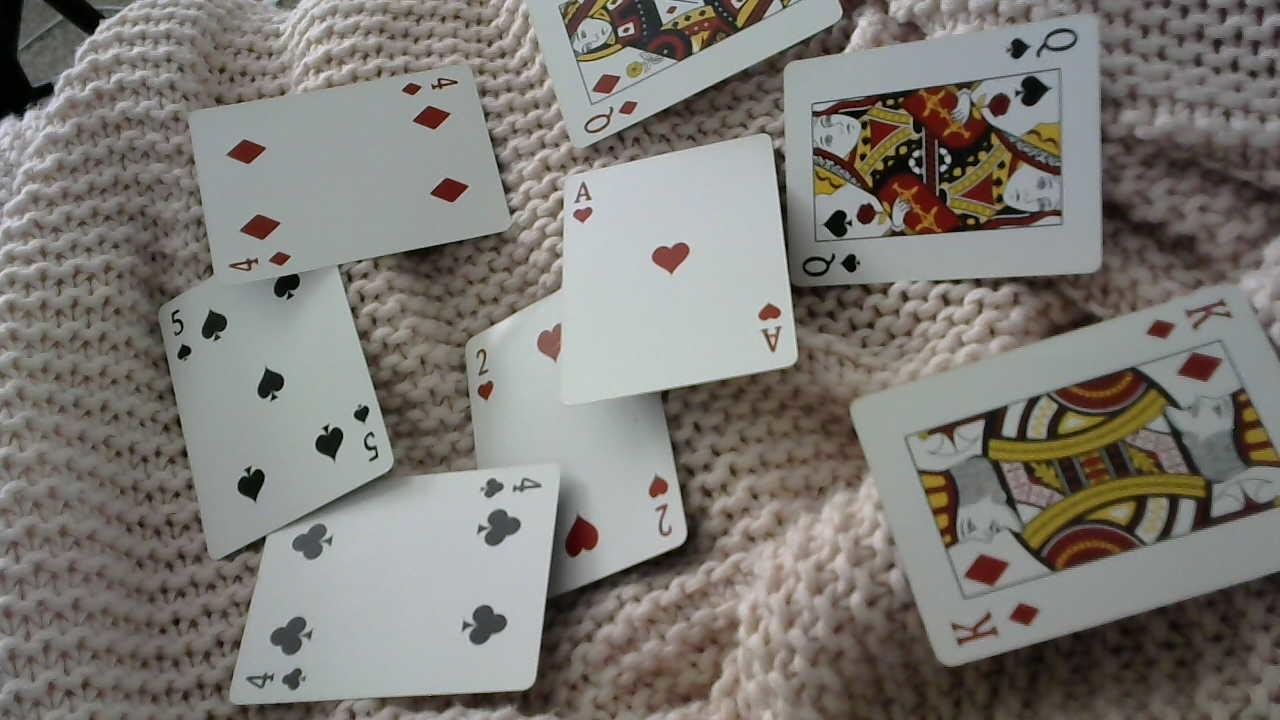2H: (643, 467, 679, 539), (471, 343, 498, 406)
4C: (477, 471, 547, 508), (243, 667, 313, 697)
4D: (396, 68, 464, 102), (221, 248, 295, 277)
5S: (164, 302, 198, 368), (350, 400, 383, 465)
AH: (747, 297, 788, 357), (569, 175, 597, 224)
KD: (943, 599, 1043, 649), (1142, 289, 1237, 341)
QD: (580, 97, 641, 141)
QS: (1001, 22, 1082, 73), (798, 247, 870, 282)
